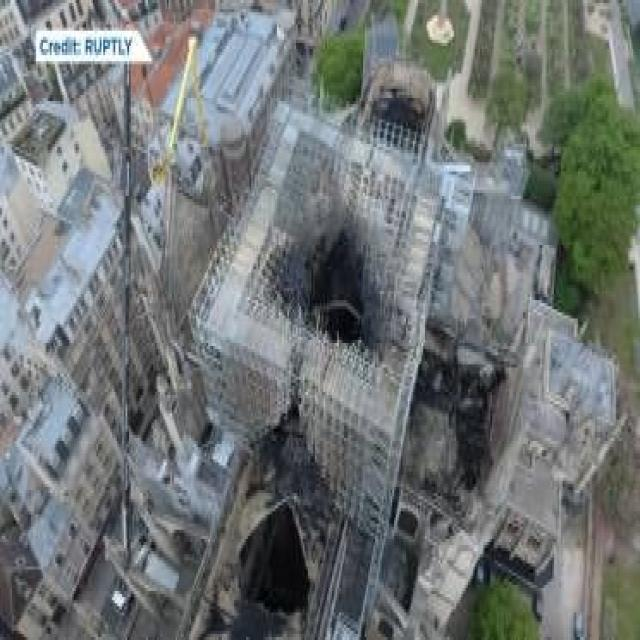collapsed_building: (191, 80, 420, 616)
